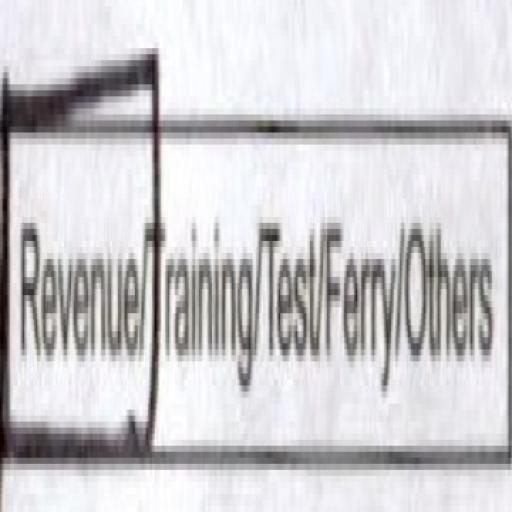check: (1, 0, 147, 509)
